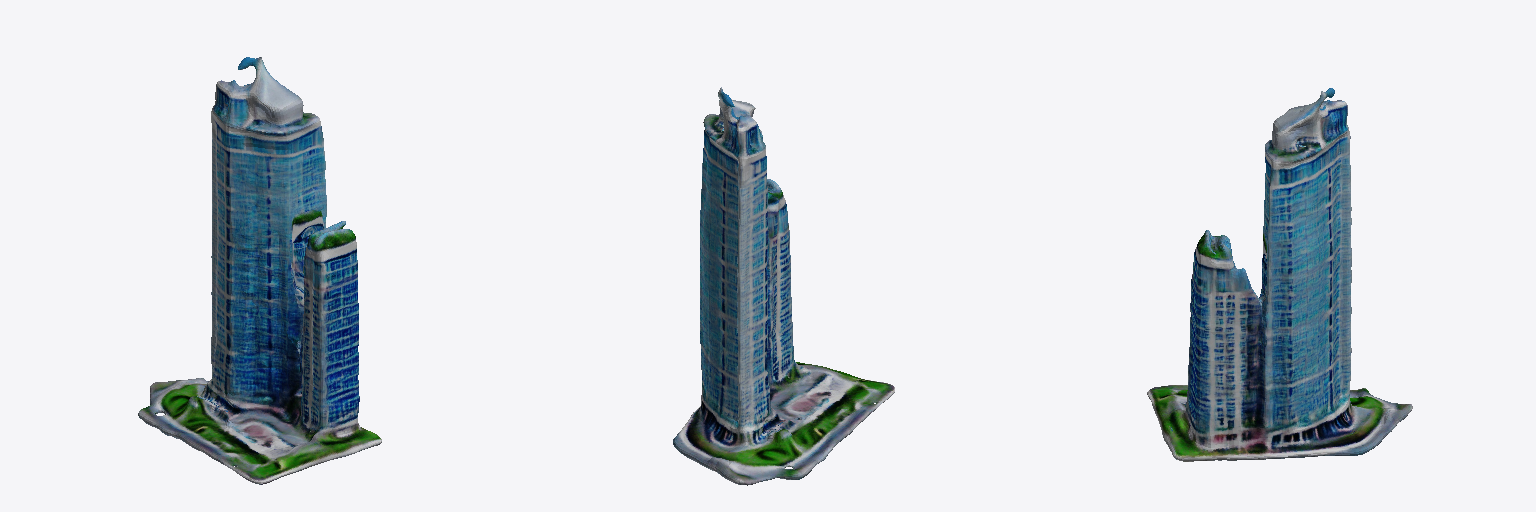
3 renders of one model, left to right at view 1: azimuth 30°, elevation 25°; view 2: azimuth 150°, elevation 25°; view 3: azimuth 270°, elevation 25°, orthographic.
Parts seen in each view (by area): view 1: mesh; view 2: mesh; view 3: mesh.
Boxes of the visible parts, x1,y1,x2,y2 form: mesh: [138, 57, 381, 484]; mesh: [673, 87, 894, 485]; mesh: [1147, 88, 1412, 461].
Size of the model in its own units: 0.4458 by 0.9974 by 0.675.
Materials: 1 (1 with a texture image).